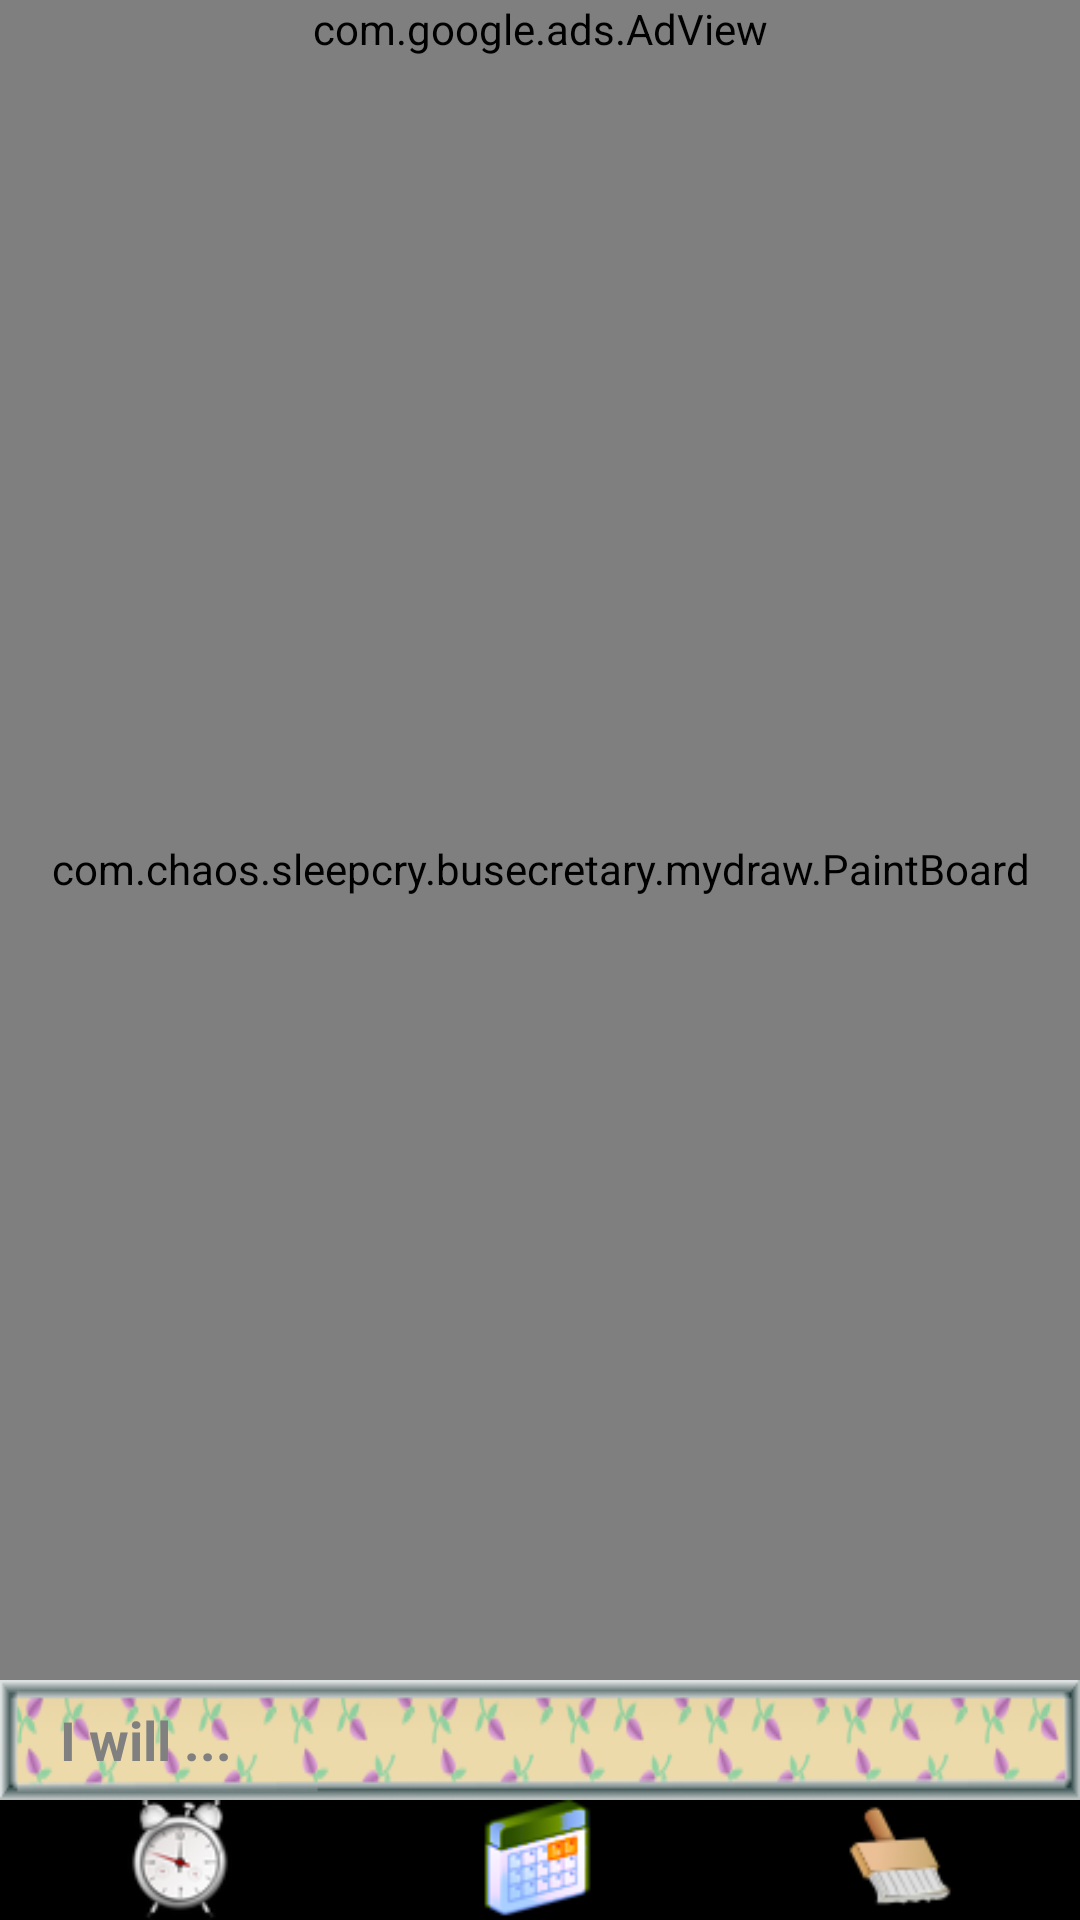

Named icons in this screenshot (1080w x 1920h) and their centers, point (x, y):
calendar: point (537, 1858)
